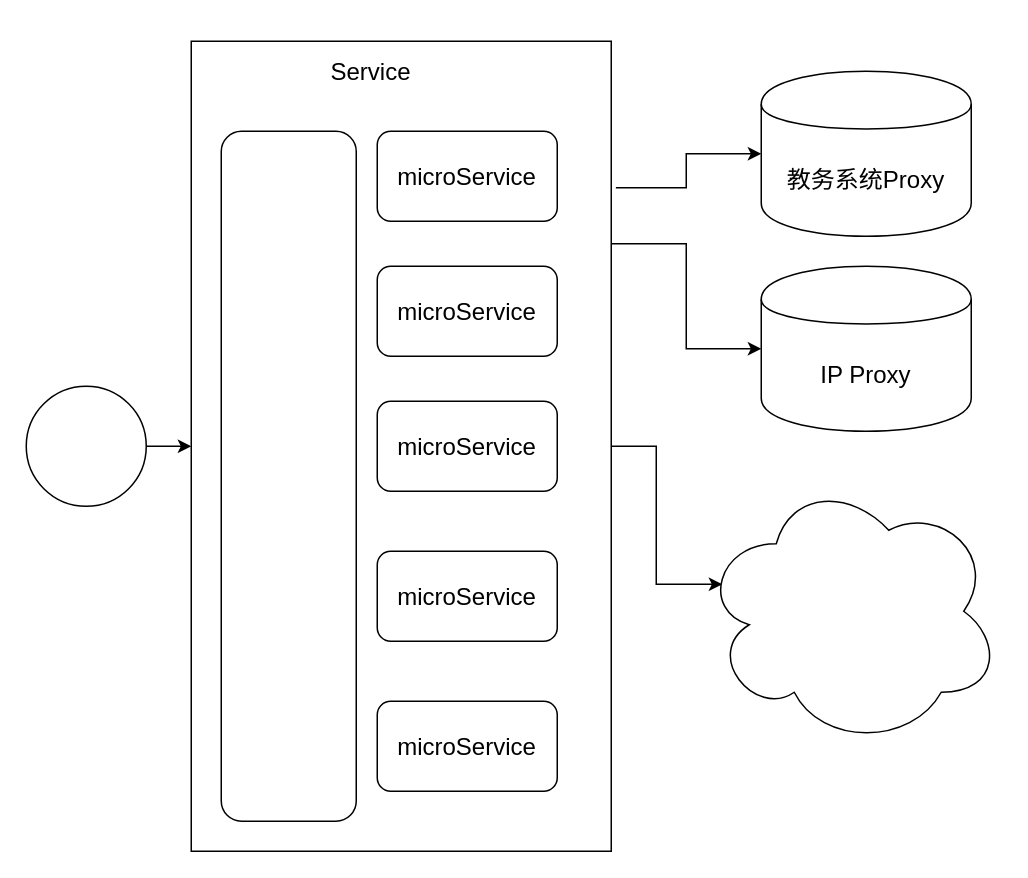
Some shapes in this 1028 by 878 pixel diagram are drawn without their labels. Here are the shapes that lost their labels. From the top down, the centre of each, then its label:
At (85,445): "Nginx".
At (288,475): "Controller".
At (850,610): "教务系统".
